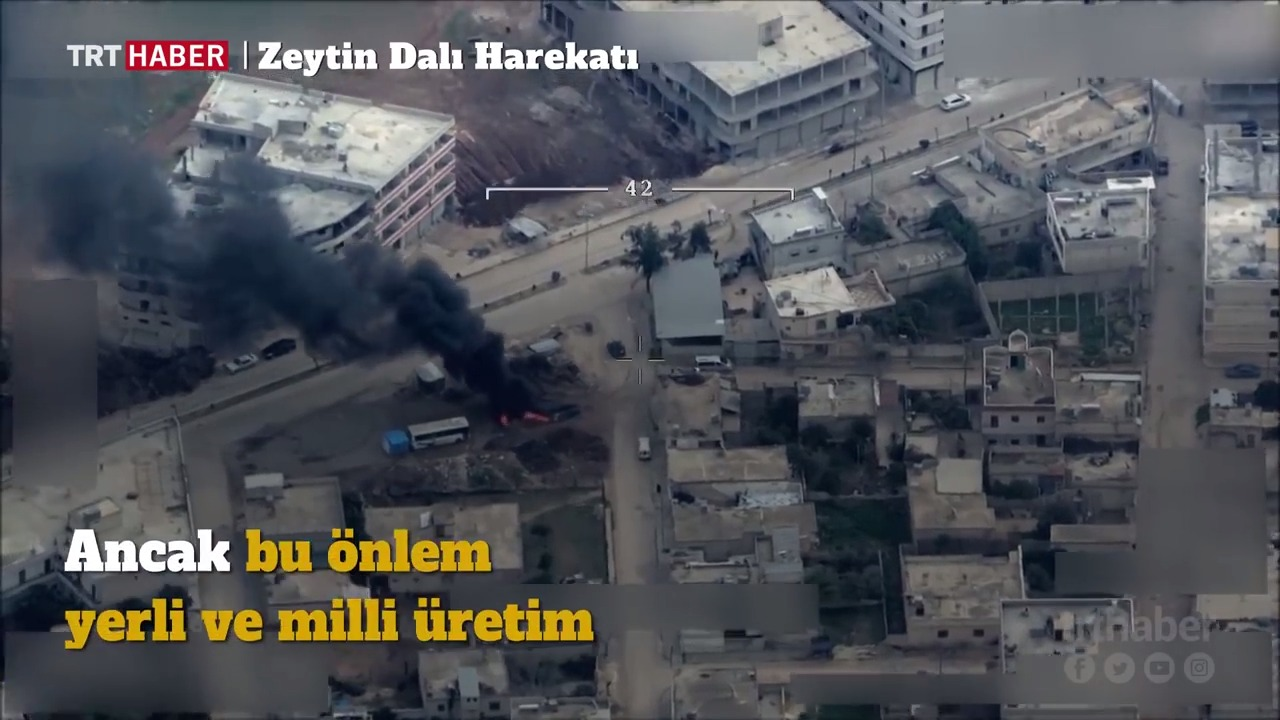arac: (408, 413, 478, 450), (933, 88, 982, 118), (691, 345, 732, 379), (215, 349, 262, 375), (254, 335, 301, 361), (598, 336, 630, 368), (1224, 359, 1262, 385), (630, 430, 659, 463), (1150, 155, 1177, 178)
bina: (97, 72, 460, 355), (643, 235, 727, 365)
